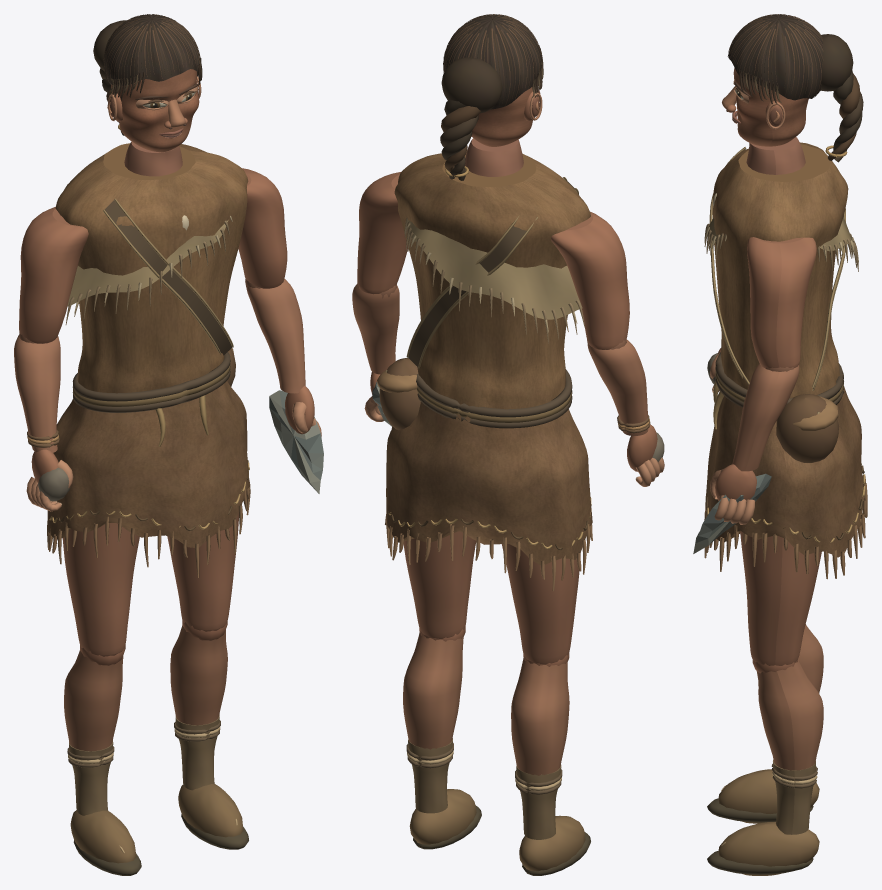
File: human.glb
The picture shows the model from 3 angles, left to right: view 1: azimuth 30°, elevation 25°; view 2: azimuth 150°, elevation 25°; view 3: azimuth 270°, elevation 25°; orthographic projection.
Parts seen in each view (by area): view 1: jerkin, wrap, spine, head, leg_-1, shin_-1, shin_1, pelvis, arm_-1, leg_1, arm_1, forearm_-1 (+6 smaller); view 2: jerkin, wrap, spine, head, pelvis, shin_-1, shin_1, arm_-1, leg_-1, leg_1, arm_1, forearm_-1 (+6 smaller); view 3: jerkin, wrap, head, shin_1, pelvis, leg_1, arm_1, foot_1, spine, forearm_1, hand_1, foot_-1 (+2 smaller).
Part boxes in pixels (box(x1,y1,x2,y2)): jerkin: box(55, 143, 248, 394); wrap: box(47, 381, 249, 547); spine: box(65, 141, 233, 355); head: box(93, 14, 202, 138); leg_-1: box(62, 523, 139, 656); shin_-1: box(64, 645, 125, 815); shin_1: box(170, 620, 227, 790); pelvis: box(47, 348, 250, 577); arm_-1: box(19, 206, 88, 343); leg_1: box(167, 512, 238, 631); arm_1: box(238, 168, 287, 288); forearm_-1: box(14, 333, 60, 452); jerkin: box(394, 150, 590, 409); wrap: box(386, 395, 592, 564); spine: box(404, 138, 584, 368); head: box(440, 14, 543, 180); pelvis: box(377, 358, 592, 591); shin_-1: box(511, 652, 569, 839); shin_1: box(403, 625, 465, 813); arm_-1: box(551, 211, 629, 349); leg_-1: box(501, 544, 580, 664); leg_1: box(403, 531, 476, 638); arm_1: box(357, 171, 407, 294); forearm_-1: box(587, 339, 650, 435); jerkin: box(712, 142, 848, 398); wrap: box(705, 380, 865, 557); head: box(722, 14, 863, 162); shin_1: box(752, 659, 823, 834); pelvis: box(704, 352, 867, 579); leg_1: box(740, 531, 821, 665); arm_1: box(747, 237, 816, 368); foot_1: box(707, 822, 819, 875); spine: box(704, 137, 858, 390); forearm_1: box(732, 363, 799, 471); hand_1: box(693, 464, 771, 553); foot_-1: box(707, 769, 819, 823).
Size of the model in its own units: 0.6487 by 1.83 by 0.3484.
Materials: 18 (3 with a texture image).
